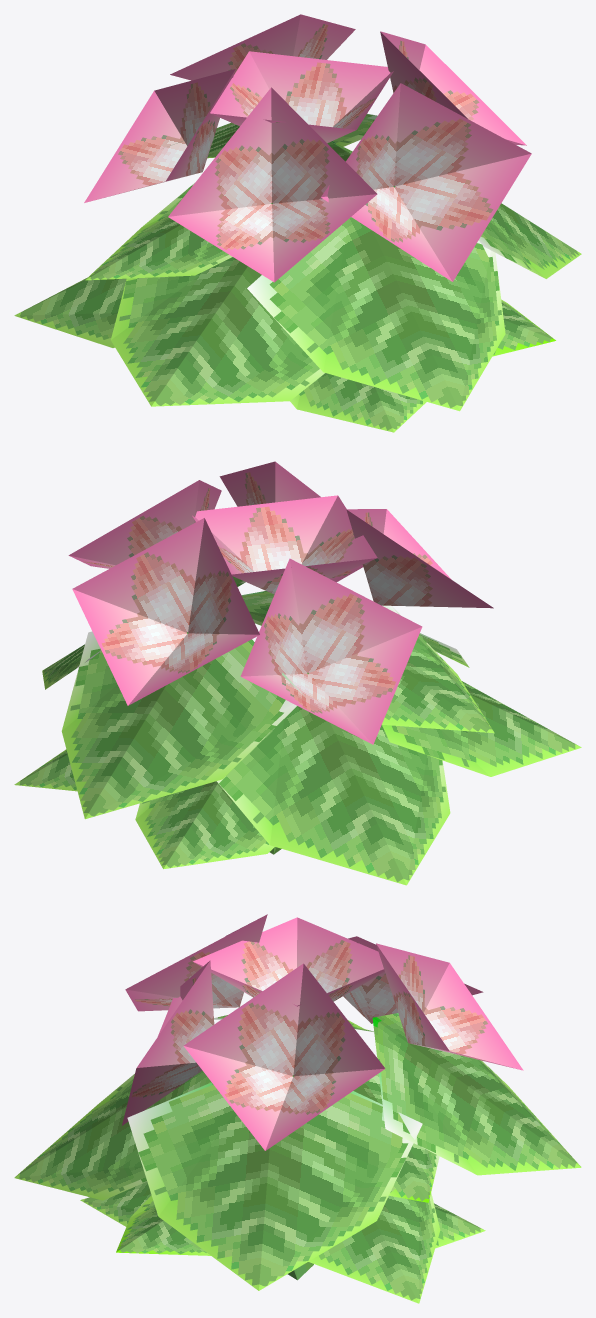
File: flowerpink_bake.dae
The picture shows the model from 3 angles, top to bottom: view 1: azimuth 30°, elevation 25°; view 2: azimuth 150°, elevation 25°; view 3: azimuth 270°, elevation 25°; orthographic projection. The views are drawn at different scales.
Visible parts, largest first — view 1: m0, m0_VC; view 2: m0, m0_VC; view 3: m0, m0_VC.
Boxes of the visible parts, x1=… form: m0: x1=20, y1=24, x2=578, y2=430; m0_VC: x1=14, y1=14, x2=581, y2=432; m0: x1=19, y1=472, x2=575, y2=882; m0_VC: x1=14, y1=461, x2=581, y2=885; m0: x1=19, y1=940, x2=576, y2=1300; m0_VC: x1=14, y1=914, x2=581, y2=1303.
Size of the model in its own units: 81.95 by 56.48 by 85.8.
